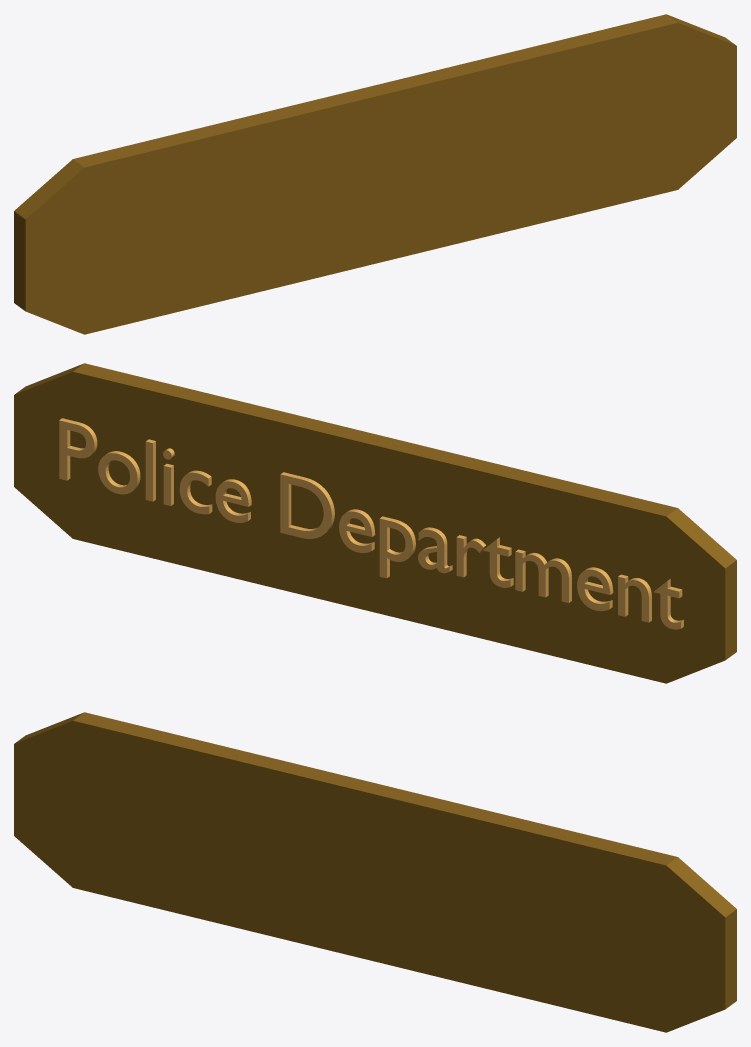
File: PD_Sign.fbx
The picture shows the model from 3 angles, top to bottom: view 1: azimuth 30°, elevation 25°; view 2: azimuth 150°, elevation 25°; view 3: azimuth 330°, elevation 25°; orthographic projection.
Visible parts, largest first — view 1: Police_Department_Sign; view 2: Police_Department_Sign; view 3: Police_Department_Sign.
Boxes of the visible parts, bbox=[...] form: Police_Department_Sign: bbox=[14, 14, 736, 334]; Police_Department_Sign: bbox=[14, 363, 736, 683]; Police_Department_Sign: bbox=[14, 712, 736, 1032].
Size of the model in its own units: 2510 by 564 by 89.15.
